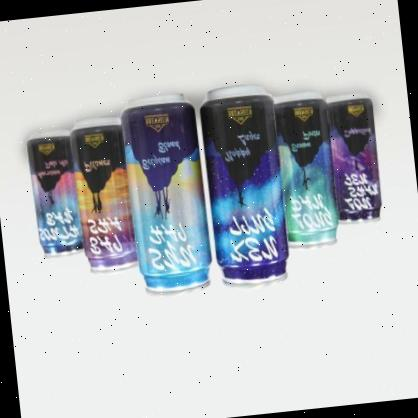can: (118, 89, 216, 298), (196, 82, 292, 295), (271, 90, 342, 256), (70, 121, 137, 277), (323, 96, 385, 228), (27, 128, 82, 262)
